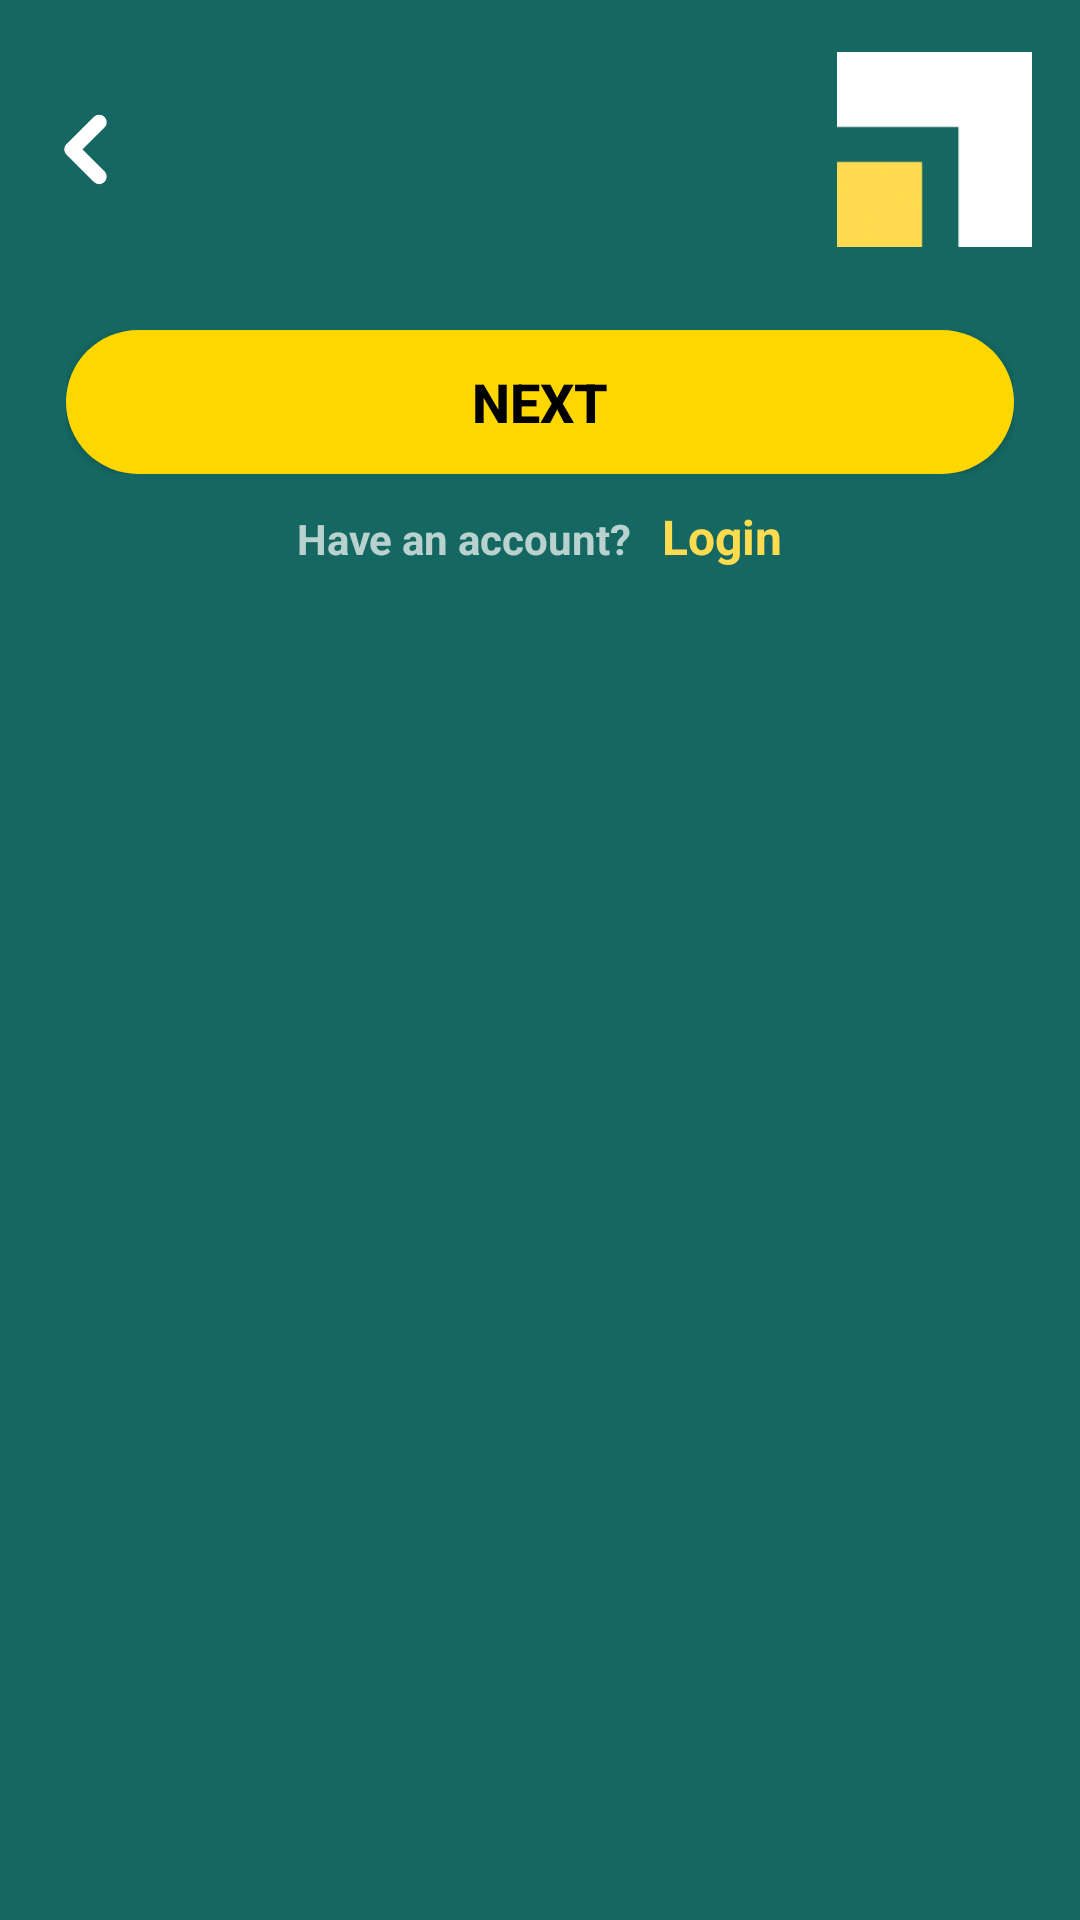

Point at icon controls on the screen. Image size 1080 x 1920, points as (x=x, y=y).
back: (x=85, y=149)
